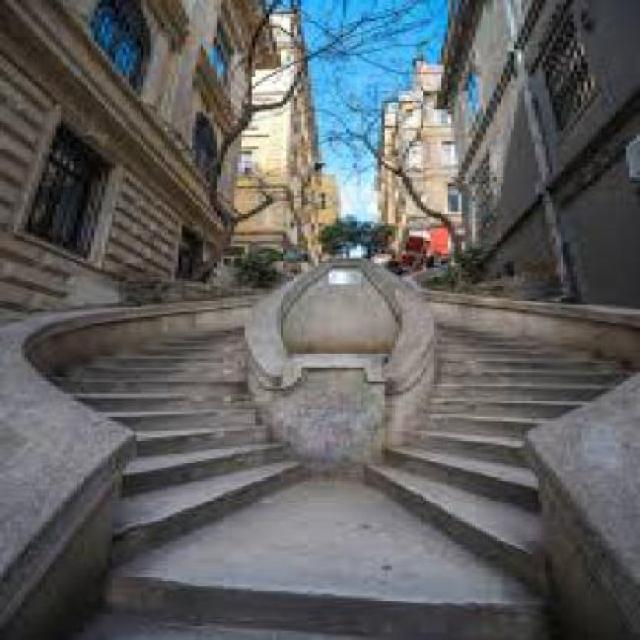stair: (7, 266, 636, 628)
